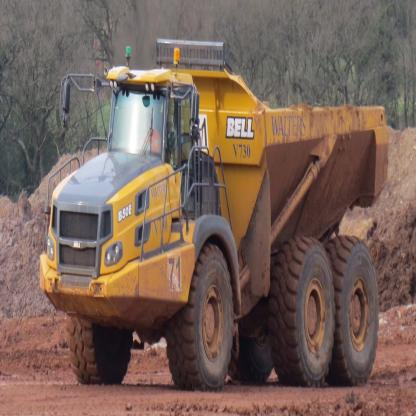dump_truck: (45, 37, 390, 389)
